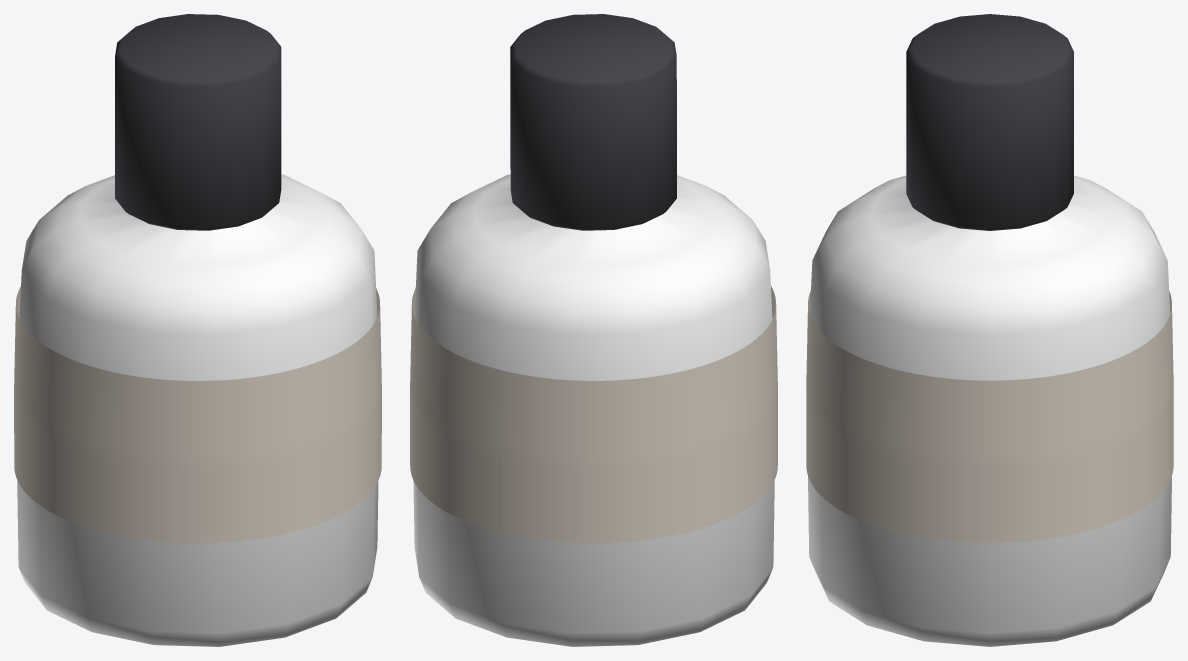
File: v2_perfume_atelier_minimal.glb
The picture shows the model from 3 angles, left to right: view 1: azimuth 30°, elevation 25°; view 2: azimuth 150°, elevation 25°; view 3: azimuth 270°, elevation 25°; orthographic projection.
Visible parts, largest first — view 1: Glass, Label_band, Cap; view 2: Glass, Label_band, Cap; view 3: Glass, Label_band, Cap.
Boxes of the visible parts, <box> form: Glass: <box>17,174,378,646</box>; Label_band: <box>14,286,381,543</box>; Cap: <box>115,14,281,230</box>; Glass: <box>413,174,774,646</box>; Label_band: <box>410,286,777,543</box>; Cap: <box>510,14,676,230</box>; Glass: <box>808,175,1171,646</box>; Label_band: <box>806,290,1173,542</box>; Cap: <box>906,14,1073,230</box>.
Bounding box in the file's own units: 0.0577 × 0.0925 × 0.0577.
